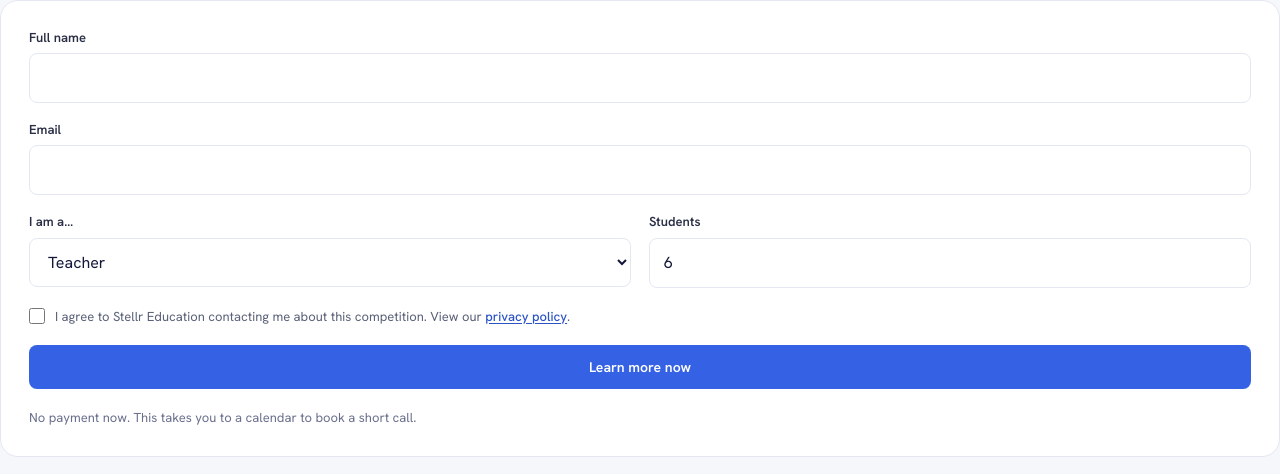
Test: LeadForm booking hand-off › redirects to the calendar once the lead is stored
The image size is (1280, 474).
Type "Alex Whitfield" into the field labelled "Full name".
click(640, 78); type("Alex Whitfield")  # box x1=29 y1=53 x2=1251 y2=103
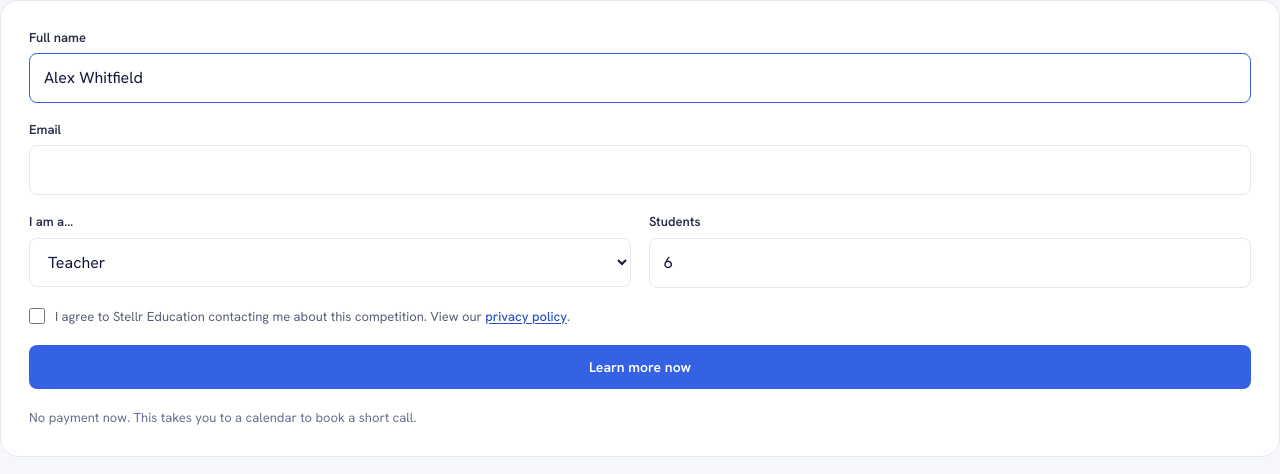
Type "alex@example.org" into the field labelled "Email".
click(640, 170); type("alex@example.org")  # box x1=29 y1=145 x2=1251 y2=195
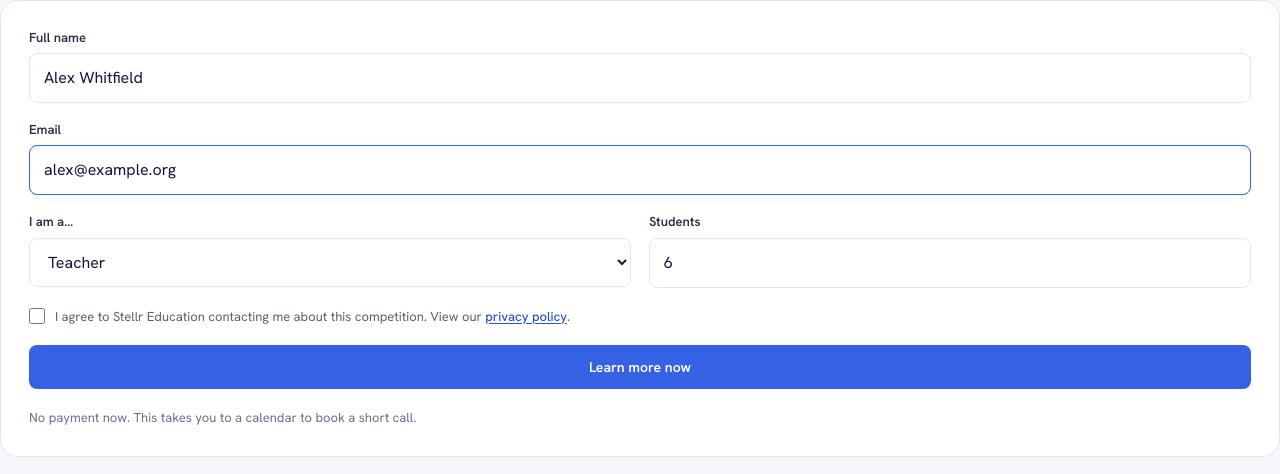
Click the checkbox labelled "I agree to Stellr Education".
click(37, 316)  # box x1=29 y1=308 x2=45 y2=324
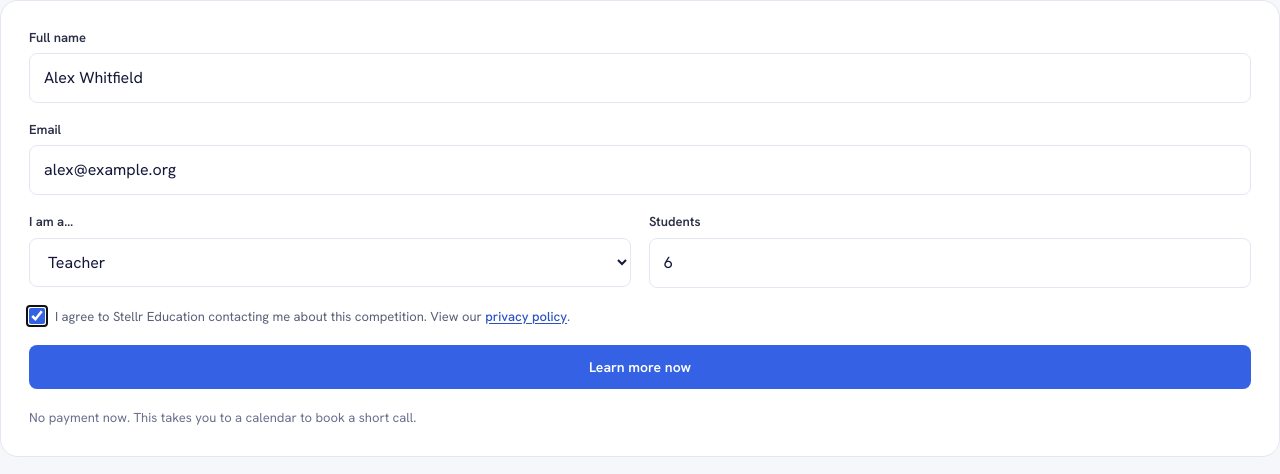
Click the button "Learn more now".
click(640, 367)  # box x1=29 y1=345 x2=1251 y2=389
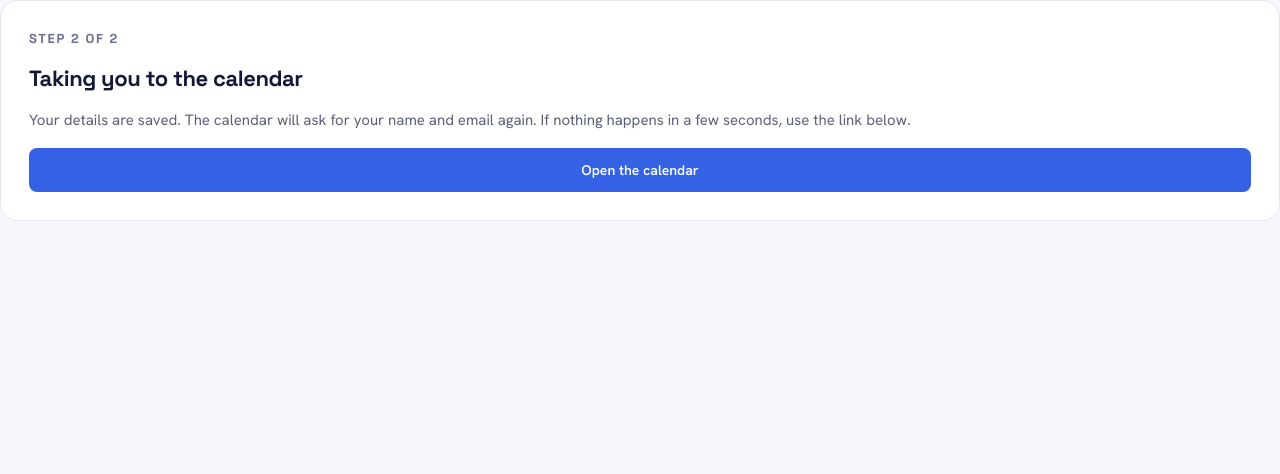
Expected: the heading "Taking you to the calendar" is shown, x1=29 y1=64 x2=303 y2=92
